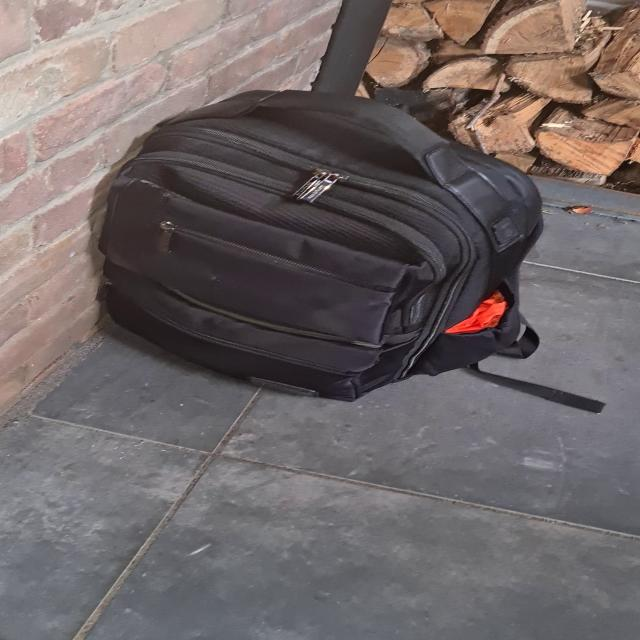backpack: (75, 76, 565, 408)
